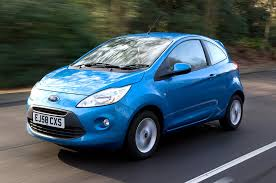Ford: (30, 31, 246, 158)
